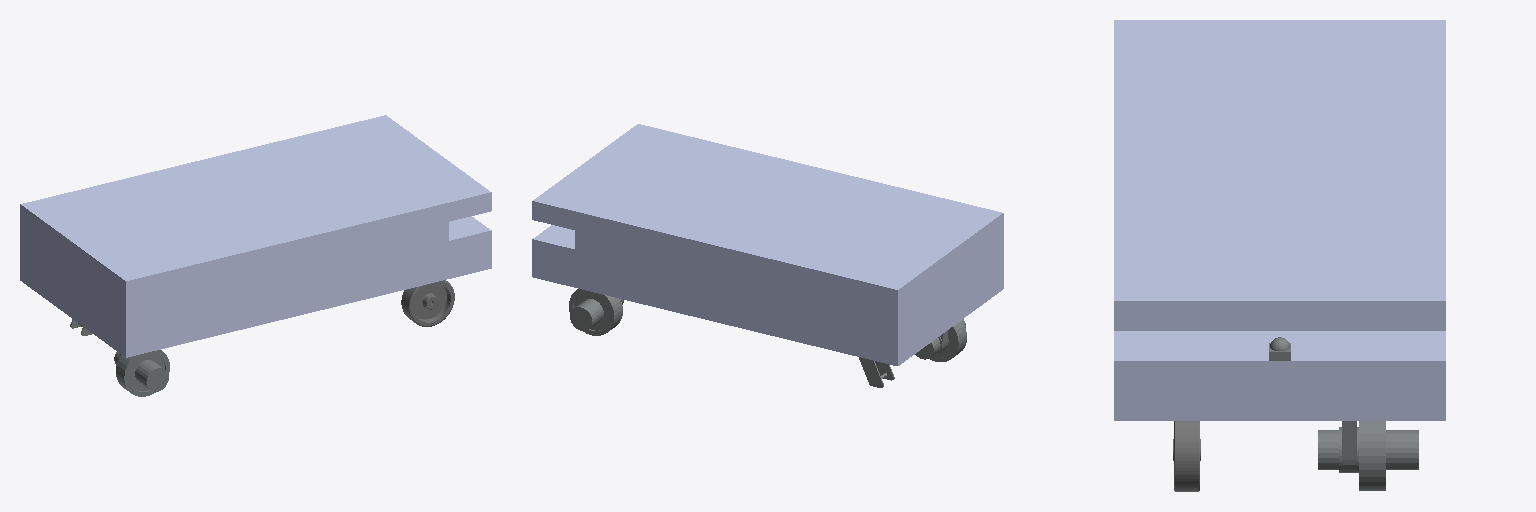
The robot description file, URDF, robot "agv_urdf":
<?xml version="1.0" encoding="utf-8"?>
<!-- This URDF was automatically created by SolidWorks to URDF Exporter! Originally created by [author] ([email redacted]) 
     Commit Version: 1.6.0-4-g7f85cfe  Build Version: 1.6.7995.38578
     For more information, please see http://wiki.ros.org/sw_urdf_exporter -->
<robot
  name="agv_urdf">
  <link
    name="base_link">
    <inertial>
      <origin
        xyz="0.00879548020592815 0 -0.00224909454812159"
        rpy="0 0 0" />
      <mass
        value="287.973904356973" />
      <inertia
        ixx="34.2025325428659"
        ixy="8.56952940977074E-15"
        ixz="-0.134064779208868"
        iyy="101.117560253562"
        iyz="5.72265930242648E-16"
        izz="122.880210687156" />
    </inertial>
    <visual>
      <origin
        xyz="0 0 0"
        rpy="0 0 0" />
      <geometry>
        <mesh
          filename="package://agv_urdf/meshes/base_link.STL" />
      </geometry>
      <material
        name="">
        <color
          rgba="0.792156862745098 0.819607843137255 0.933333333333333 1" />
      </material>
    </visual>
    <collision>
      <origin
        xyz="0 0 0"
        rpy="0 0 0" />
      <geometry>
        <mesh
          filename="package://agv_urdf/meshes/base_link.STL" />
      </geometry>
    </collision>
  </link>
  <link
    name="steer_f_link">
    <inertial>
      <origin
        xyz="-0.00717555718342811 -0.0278525654563684 -0.044283884059445"
        rpy="0 0 0" />
      <mass
        value="26.0885663948635" />
      <inertia
        ixx="0.193845103804711"
        ixy="-0.00184343974656806"
        ixz="0.00379714309592857"
        iyy="0.194092909845274"
        iyz="-0.0442523017048679"
        izz="0.153445505801553" />
    </inertial>
    <visual>
      <origin
        xyz="0 0 0"
        rpy="0 0 0" />
      <geometry>
        <mesh
          filename="package://agv_urdf/meshes/steer_f_link.STL" />
      </geometry>
      <material
        name="">
        <color
          rgba="0.529411764705882 0.549019607843137 0.549019607843137 1" />
      </material>
    </visual>
    <collision>
      <origin
        xyz="0 0 0"
        rpy="0 0 0" />
      <geometry>
        <mesh
          filename="package://agv_urdf/meshes/steer_f_link.STL" />
      </geometry>
    </collision>
  </link>
  <joint
    name="steer_f_joint"
    type="continuous">
    <origin
      xyz="0.78 0.28 -0.219"
      rpy="0 0 0" />
    <parent
      link="base_link" />
    <child
      link="steer_f_link" />
    <axis
      xyz="0 0 1" />
    <limit
      lower="0.1"
      upper="1"
      effort="100"
      velocity="100" />
    <dynamics
      damping="0.1"
      friction="0.1" />
  </joint>
  <link
    name="traction_f_link">
    <inertial>
      <origin
        xyz="0 0 0.00540765020848077"
        rpy="0 0 0" />
      <mass
        value="48.2721089005952" />
      <inertia
        ixx="0.35604448663777"
        ixy="6.6317648394305E-18"
        ixz="7.79148194529945E-20"
        iyy="0.35604448663777"
        iyz="-3.4717407777933E-18"
        izz="0.266277291373223" />
    </inertial>
    <visual>
      <origin
        xyz="0 0 0"
        rpy="0 0 0" />
      <geometry>
        <mesh
          filename="package://agv_urdf/meshes/traction_f_link.STL" />
      </geometry>
      <material
        name="">
        <color
          rgba="0.529411764705882 0.549019607843137 0.549019607843137 1" />
      </material>
    </visual>
    <collision>
      <origin
        xyz="0 0 0"
        rpy="0 0 0" />
      <geometry>
        <mesh
          filename="package://agv_urdf/meshes/traction_f_link.STL" />
      </geometry>
    </collision>
  </link>
  <joint
    name="traction_f_joint"
    type="continuous">
    <origin
      xyz="0 -0.0005 -0.1808"
      rpy="1.5708 0 0" />
    <parent
      link="steer_f_link" />
    <child
      link="traction_f_link" />
    <axis
      xyz="0 0 1" />
    <limit
      lower="0.1"
      upper="1"
      effort="100"
      velocity="100" />
    <dynamics
      damping="0.1"
      friction="0.1" />
  </joint>
  <link
    name="castor_f_link">
    <inertial>
      <origin
        xyz="-0.0116716387839898 -4.44089209850063E-16 -0.0284449692331434"
        rpy="0 0 0" />
      <mass
        value="7.96892334713999" />
      <inertia
        ixx="0.0416073919894557"
        ixy="-1.06300246007598E-18"
        ixz="-0.0110442398178131"
        iyy="0.0422608740667285"
        iyz="1.2261569335218E-18"
        izz="0.0224352820122703" />
    </inertial>
    <visual>
      <origin
        xyz="0 0 0"
        rpy="0 0 0" />
      <geometry>
        <mesh
          filename="package://agv_urdf/meshes/castor_f_link.STL" />
      </geometry>
      <material
        name="">
        <color
          rgba="0.529411764705882 0.549019607843137 0.549019607843137 1" />
      </material>
    </visual>
    <collision>
      <origin
        xyz="0 0 0"
        rpy="0 0 0" />
      <geometry>
        <mesh
          filename="package://agv_urdf/meshes/castor_f_link.STL" />
      </geometry>
    </collision>
  </link>
  <joint
    name="castor_f_joint"
    type="continuous">
    <origin
      xyz="0.85459 -0.28 -0.2204"
      rpy="0 0 0" />
    <parent
      link="base_link" />
    <child
      link="castor_f_link" />
    <axis
      xyz="0 0 1" />
    <limit
      lower="0.1"
      upper="1"
      effort="100"
      velocity="100" />
    <dynamics
      damping="0.1"
      friction="0.1" />
  </joint>
  <link
    name="castor_f_w_link">
    <inertial>
      <origin
        xyz="1.11022302462516E-16 -5.55111512312578E-17 0"
        rpy="0 0 0" />
      <mass
        value="0.366852188066652" />
      <inertia
        ixx="0.00186124782211862"
        ixy="-5.01587969640318E-21"
        ixz="-4.46827755231372E-20"
        iyy="0.00186124782211862"
        iyz="5.1122589039438E-22"
        izz="0.00342739082507927" />
    </inertial>
    <visual>
      <origin
        xyz="0 0 0"
        rpy="0 0 0" />
      <geometry>
        <mesh
          filename="package://agv_urdf/meshes/castor_f_w_link.STL" />
      </geometry>
      <material
        name="">
        <color
          rgba="0.501960784313725 0.501960784313725 0.501960784313725 1" />
      </material>
    </visual>
    <collision>
      <origin
        xyz="0 0 0"
        rpy="0 0 0" />
      <geometry>
        <mesh
          filename="package://agv_urdf/meshes/castor_f_w_link.STL" />
      </geometry>
    </collision>
  </link>
  <joint
    name="castor_f_w_joint"
    type="continuous">
    <origin
      xyz="-0.07459 0 -0.1794"
      rpy="1.5708 0 0" />
    <parent
      link="castor_f_link" />
    <child
      link="castor_f_w_link" />
    <axis
      xyz="0 0 1" />
    <limit
      lower="0.1"
      upper="0.1"
      effort="100"
      velocity="100" />
    <dynamics
      damping="0.1"
      friction="0.1" />
  </joint>
  <link
    name="steer_b_link">
    <inertial>
      <origin
        xyz="0.00717555718342833 0.0278525654563677 -0.044283884059445"
        rpy="0 0 0" />
      <mass
        value="26.0885663948635" />
      <inertia
        ixx="0.193845103804712"
        ixy="-0.00184343974656803"
        ixz="-0.00379714309592856"
        iyy="0.194092909845275"
        iyz="0.0442523017048681"
        izz="0.153445505801553" />
    </inertial>
    <visual>
      <origin
        xyz="0 0 0"
        rpy="0 0 0" />
      <geometry>
        <mesh
          filename="package://agv_urdf/meshes/steer_b_link.STL" />
      </geometry>
      <material
        name="">
        <color
          rgba="0.529411764705882 0.549019607843137 0.549019607843137 1" />
      </material>
    </visual>
    <collision>
      <origin
        xyz="0 0 0"
        rpy="0 0 0" />
      <geometry>
        <mesh
          filename="package://agv_urdf/meshes/steer_b_link.STL" />
      </geometry>
    </collision>
  </link>
  <joint
    name="steer_b_joint"
    type="continuous">
    <origin
      xyz="-0.78 -0.28 -0.219"
      rpy="0 0 0" />
    <parent
      link="base_link" />
    <child
      link="steer_b_link" />
    <axis
      xyz="0 0 1" />
    <limit
      lower="0.1"
      upper="1"
      effort="100"
      velocity="100" />
    <dynamics
      damping="0.1"
      friction="0.1" />
  </joint>
  <link
    name="traction_b_link">
    <inertial>
      <origin
        xyz="1.11022302462516E-16 5.55111512312578E-17 -0.00540765020848033"
        rpy="0 0 0" />
      <mass
        value="48.2721089005952" />
      <inertia
        ixx="0.3560444866378"
        ixy="-1.17396581144442E-17"
        ixz="-4.58787554266472E-18"
        iyy="0.3560444866378"
        iyz="1.31824527773656E-17"
        izz="0.266277291373223" />
    </inertial>
    <visual>
      <origin
        xyz="0 0 0"
        rpy="0 0 0" />
      <geometry>
        <mesh
          filename="package://agv_urdf/meshes/traction_b_link.STL" />
      </geometry>
      <material
        name="">
        <color
          rgba="0.529411764705882 0.549019607843137 0.549019607843137 1" />
      </material>
    </visual>
    <collision>
      <origin
        xyz="0 0 0"
        rpy="0 0 0" />
      <geometry>
        <mesh
          filename="package://agv_urdf/meshes/traction_b_link.STL" />
      </geometry>
    </collision>
  </link>
  <joint
    name="traction_b_joint"
    type="continuous">
    <origin
      xyz="0 0.0005 -0.1808"
      rpy="1.5708 0 0" />
    <parent
      link="steer_b_link" />
    <child
      link="traction_b_link" />
    <axis
      xyz="0 0 1" />
    <limit
      lower="0.1"
      upper="1"
      effort="100"
      velocity="100" />
    <dynamics
      damping="0.1"
      friction="0.1" />
  </joint>
  <link
    name="castor_b_link">
    <inertial>
      <origin
        xyz="-0.0116716387839898 0 -0.0284449692331483"
        rpy="0 0 0" />
      <mass
        value="7.96892334714" />
      <inertia
        ixx="0.0416073919895143"
        ixy="2.45730336529973E-19"
        ixz="-0.0110442398178125"
        iyy="0.0422608740667871"
        iyz="2.90832919792927E-18"
        izz="0.0224352820122703" />
    </inertial>
    <visual>
      <origin
        xyz="0 0 0"
        rpy="0 0 0" />
      <geometry>
        <mesh
          filename="package://agv_urdf/meshes/castor_b_link.STL" />
      </geometry>
      <material
        name="">
        <color
          rgba="0.529411764705882 0.549019607843137 0.549019607843137 1" />
      </material>
    </visual>
    <collision>
      <origin
        xyz="0 0 0"
        rpy="0 0 0" />
      <geometry>
        <mesh
          filename="package://agv_urdf/meshes/castor_b_link.STL" />
      </geometry>
    </collision>
  </link>
  <joint
    name="castor_b_joint"
    type="continuous">
    <origin
      xyz="-0.70541 0.28 -0.2204"
      rpy="0 0 0" />
    <parent
      link="base_link" />
    <child
      link="castor_b_link" />
    <axis
      xyz="0 0 1" />
    <limit
      lower="0.1"
      upper="1"
      effort="100"
      velocity="100" />
    <dynamics
      damping="0.1"
      friction="0.1" />
  </joint>
  <link
    name="castor_b_w_link">
    <inertial>
      <origin
        xyz="0 5.55111512312578E-17 4.44089209850063E-16"
        rpy="0 0 0" />
      <mass
        value="0.366852188066652" />
      <inertia
        ixx="0.00186124782211861"
        ixy="-5.01587969640399E-21"
        ixz="2.5035980350045E-21"
        iyy="0.00186124782211861"
        iyz="5.11225890394175E-22"
        izz="0.00342739082507928" />
    </inertial>
    <visual>
      <origin
        xyz="0 0 0"
        rpy="0 0 0" />
      <geometry>
        <mesh
          filename="package://agv_urdf/meshes/castor_b_w_link.STL" />
      </geometry>
      <material
        name="">
        <color
          rgba="0.501960784313725 0.501960784313725 0.501960784313725 1" />
      </material>
    </visual>
    <collision>
      <origin
        xyz="0 0 0"
        rpy="0 0 0" />
      <geometry>
        <mesh
          filename="package://agv_urdf/meshes/castor_b_w_link.STL" />
      </geometry>
    </collision>
  </link>
  <joint
    name="castor_b_w_joint"
    type="continuous">
    <origin
      xyz="-0.07459 0 -0.1794"
      rpy="1.5708 0 0" />
    <parent
      link="castor_b_link" />
    <child
      link="castor_b_w_link" />
    <axis
      xyz="0 0 1" />
    <limit
      lower="0.1"
      upper="1"
      effort="100"
      velocity="100" />
    <dynamics
      damping="0.1"
      friction="0.1" />
  </joint>
  <link
    name="lidar_link">
    <inertial>
      <origin
        xyz="0 0 -0.00690172767252528"
        rpy="0 0 0" />
      <mass
        value="1.42972960856401" />
      <inertia
        ixx="0.000735367328208808"
        ixy="5.02540064106494E-20"
        ixz="4.40395213278562E-20"
        iyy="0.000735367328208806"
        iyz="-8.70508206688143E-19"
        izz="0.000854963034083045" />
    </inertial>
    <visual>
      <origin
        xyz="0 0 0"
        rpy="0 0 0" />
      <geometry>
        <mesh
          filename="package://agv_urdf/meshes/lidar_link.STL" />
      </geometry>
      <material
        name="">
        <color
          rgba="0.529411764705882 0.549019607843137 0.549019607843137 1" />
      </material>
    </visual>
    <collision>
      <origin
        xyz="0 0 0"
        rpy="0 0 0" />
      <geometry>
        <mesh
          filename="package://agv_urdf/meshes/lidar_link.STL" />
      </geometry>
    </collision>
  </link>
  <joint
    name="lidar_joint"
    type="fixed">
    <origin
      xyz="0.9675 0 0.0299999999999998"
      rpy="0 0 0" />
    <parent
      link="base_link" />
    <child
      link="lidar_link" />
    <axis
      xyz="0 0 0" />
  </joint>
</robot>

--- What the picture shows (computed from the rendered views, not written in the file) ---
3 views of the same robot in one strip: view 1: azimuth 30°, elevation 25°; view 2: azimuth 150°, elevation 25°; view 3: azimuth 270°, elevation 25° (orthographic).
Model agv_urdf with 10 links and 9 joints (8 continuous, 1 fixed), rooted at base_link, posed every joint at zero.
Links seen in each view (by area): view 1: base_link, traction_b_link, castor_f_w_link; view 2: base_link, traction_f_link, traction_b_link, castor_b_link; view 3: base_link, traction_f_link, castor_f_w_link, steer_f_link.
Link boxes in pixels (x1=…): base_link: x1=20, y1=115, x2=491, y2=357; traction_b_link: x1=114, y1=350, x2=169, y2=396; castor_f_w_link: x1=401, y1=280, x2=454, y2=326; base_link: x1=532, y1=124, x2=1003, y2=365; traction_f_link: x1=569, y1=289, x2=623, y2=335; traction_b_link: x1=915, y1=319, x2=966, y2=361; castor_b_link: x1=859, y1=357, x2=894, y2=387; base_link: x1=1114, y1=20, x2=1445, y2=420; traction_f_link: x1=1318, y1=421, x2=1418, y2=490; castor_f_w_link: x1=1173, y1=421, x2=1200, y2=491; steer_f_link: x1=1342, y1=421, x2=1356, y2=472.
Bounding box of the posed robot: 2 × 1 × 0.7248 m (x, y, z).
Meshes: 10 distinct files referenced, 8 mesh visuals loaded (8 binary STL); not drawn: 2 (reference not matched to a file when rendering).